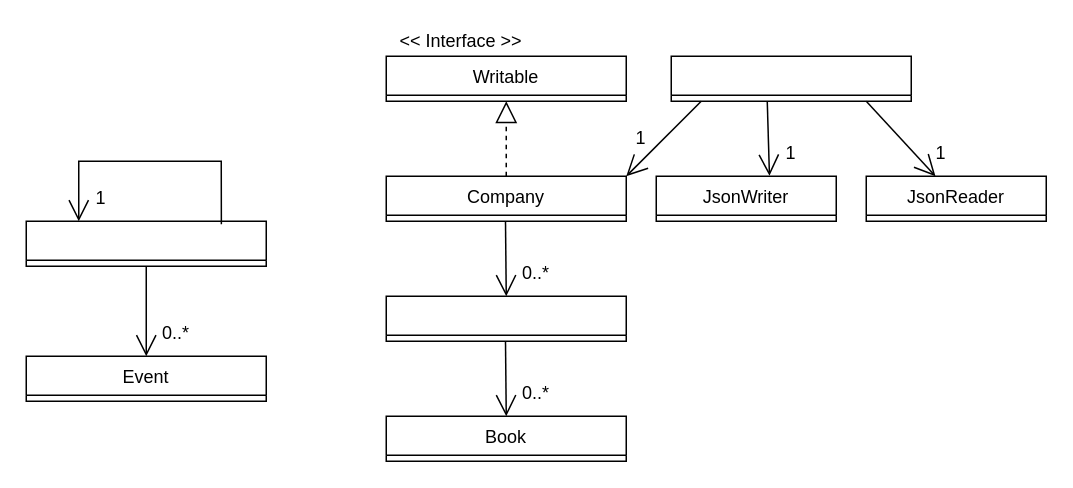
This 1073x488 diagram has some shape labels left out. Each missing label, with the centre of its shape:
Branch: [505,318]
EventLog: [145,243]
GraphicalBookStoreApp: [790,78]
